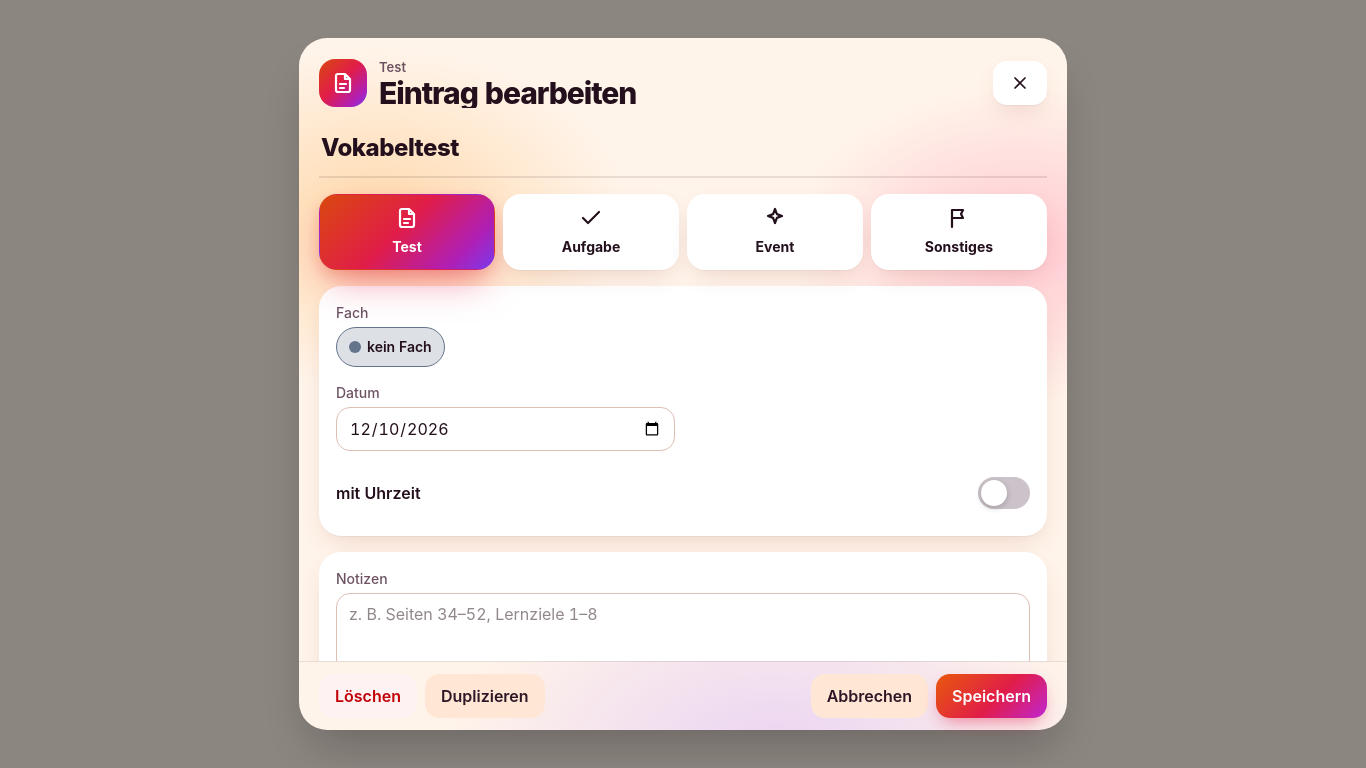
Eintrag-Formular › leerer Titel → Hinweis statt Speichern
Clear the field named "Titel": {"x": 683, "y": 151} [319, 124, 1047, 178]
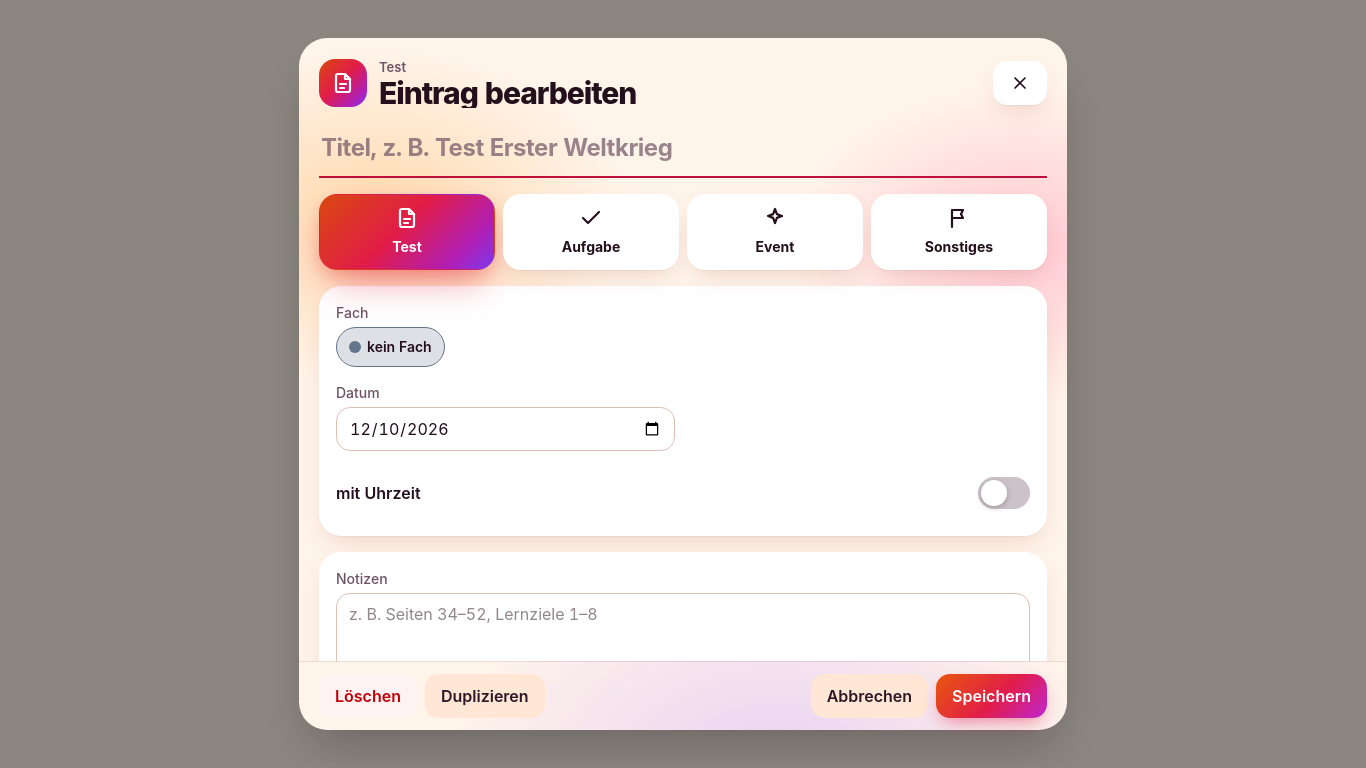
Click the button "Speichern": {"x": 992, "y": 696} [936, 674, 1047, 718]
(page scrolled)
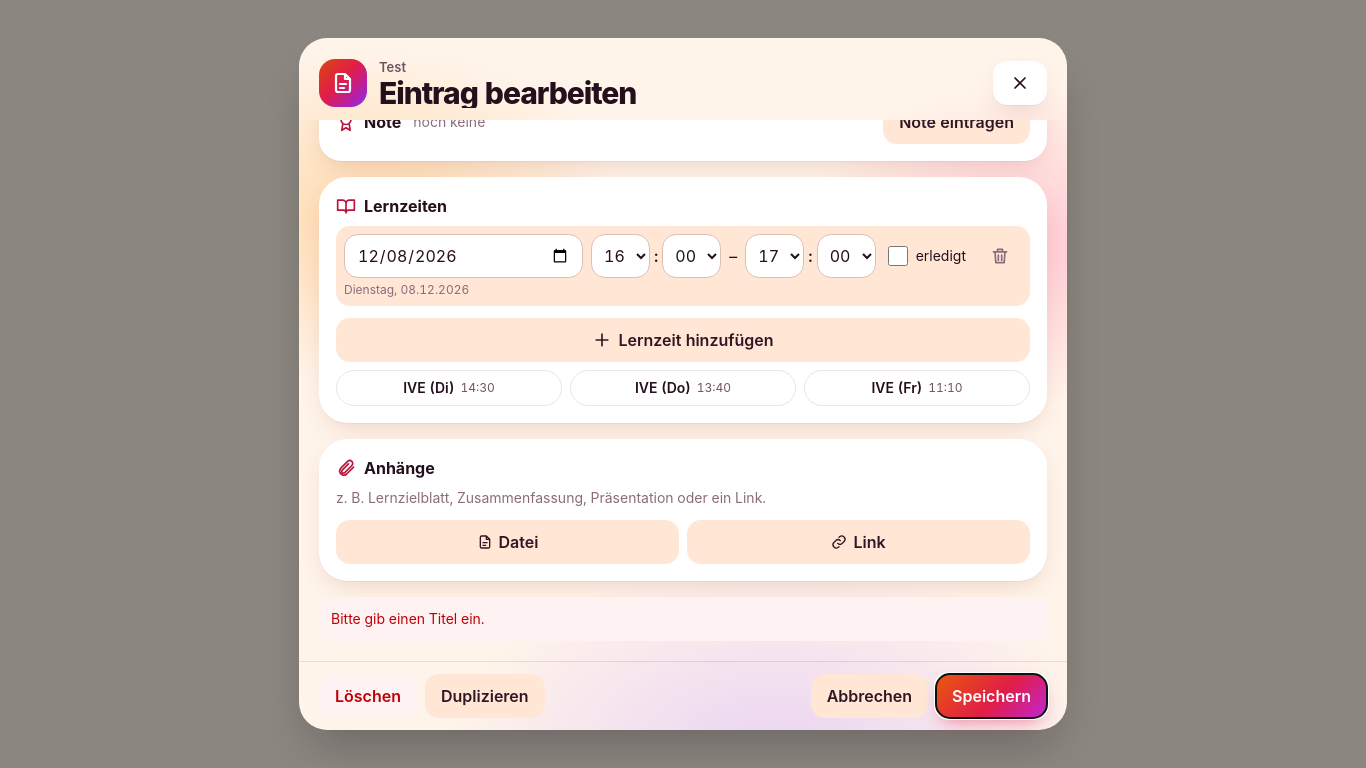
Result: the message shows "Titel" at [331, 610, 485, 627]
